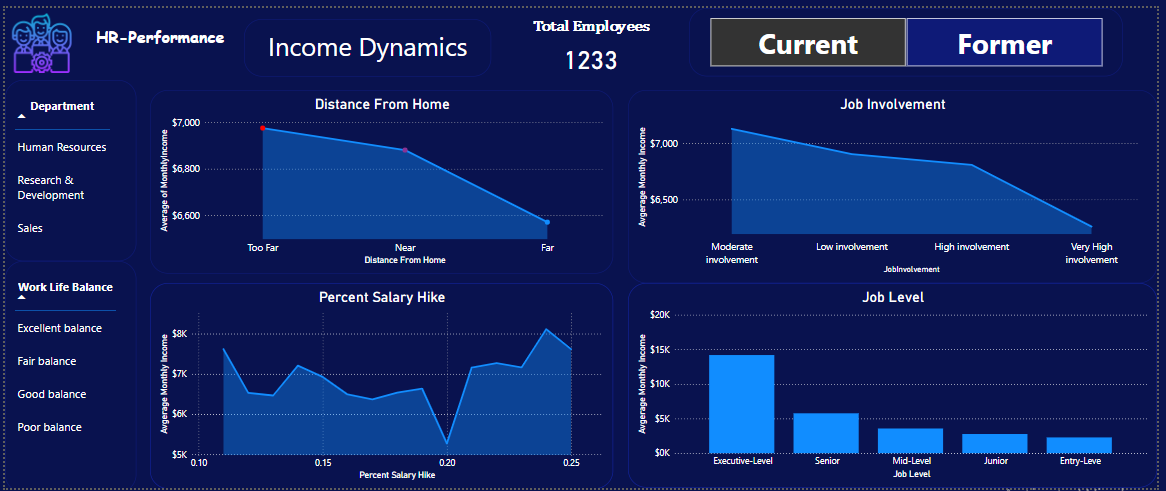

Layout of this report page (visuals, bound fields, positions):
{"tool":"powerbi","page":{"name":"Income Dynamics","canvas":[1920,800],"ordinal":2},"visuals":[{"type":"textbox","box":[118.4,25.2,280.7,73.3],"z":0,"group":"g1"},{"type":"card","fields":{"Values":["CountNonNull(HR-Employee-Attrition.EmployeeNumber)"]},"box":[822.6,49.7,305.4,64.1],"z":0,"group":"g2"},{"type":"tableEx","fields":{"Values":["HR-Employee-Attrition.Department"]},"box":[0,120,219.2,302.4],"z":0},{"type":"group","id":"g1","title":"Group 4","box":[3.2,3.2,395.9,109.9],"z":1000},{"type":"image","box":[3.2,3.2,115.2,109.9],"z":1000,"group":"g1"},{"type":"slicer","title":"Attrition","fields":{"Values":["HR-Employee-Attrition.Attrition"]},"box":[1139.6,0,722.6,113.5],"z":2000},{"type":"textbox","box":[809.3,10.3,332.1,48.2],"z":2000,"group":"g2"},{"type":"group","id":"g2","title":"Group 1","box":[809.3,10.3,330.3,103.2],"z":3000},{"type":"tableEx","fields":{"Values":["HR-Employee-Attrition.Work Life Balance"]},"box":[0,422.4,219.3,386.2],"z":4000},{"type":"textbox","box":[397.9,17.8,412.2,96.4],"z":5000},{"type":"clusteredColumnChart","title":"Job Level","fields":{"Category":["HR-Employee-Attrition.Job Level"],"Y":["Avg(HR-Employee-Attrition.MonthlyIncome)"]},"box":[1038.5,458.3,881.5,340.6],"z":6000},{"type":"areaChart","title":"Percent Salary Hike","fields":{"Category":["HR-Employee-Attrition.Percent Salary Hike"],"Y":["Avg(HR-Employee-Attrition.MonthlyIncome)"]},"box":[241.5,458.3,772.1,342.7],"z":7000},{"type":"areaChart","title":" Distance From Home","fields":{"Category":["HR-Employee-Attrition.Distance From Home"],"Y":["Avg(HR-Employee-Attrition.MonthlyIncome)"]},"box":[241.5,136.3,772.1,305.5],"z":9000},{"type":"areaChart","title":"Job Involvement","fields":{"Category":["HR-Employee-Attrition.JobInvolvement"],"Y":["Avg(HR-Employee-Attrition.MonthlyIncome)"]},"box":[1038.5,136.3,881.5,322.1],"z":10000}]}

Visuals, with their boxes in screenshot pixels (x1, y1, x2, y2), scaled from the page's 1920x800 canvas onto the 1166x491 screenshot:
textbox: {"x1": 72, "y1": 15, "x2": 242, "y2": 60}
card - CountNonNull(HR-Employee-Attrition.EmployeeNumber): {"x1": 500, "y1": 31, "x2": 685, "y2": 70}
tableEx - HR-Employee-Attrition.Department: {"x1": 0, "y1": 74, "x2": 133, "y2": 259}
"Group 4" group: {"x1": 2, "y1": 2, "x2": 242, "y2": 69}
image: {"x1": 2, "y1": 2, "x2": 72, "y2": 69}
"Attrition" slicer: {"x1": 692, "y1": 0, "x2": 1131, "y2": 70}
textbox: {"x1": 491, "y1": 6, "x2": 693, "y2": 36}
"Group 1" group: {"x1": 491, "y1": 6, "x2": 692, "y2": 70}
tableEx - HR-Employee-Attrition.Work Life Balance: {"x1": 0, "y1": 259, "x2": 133, "y2": 490}
textbox: {"x1": 242, "y1": 11, "x2": 492, "y2": 70}
"Job Level" clusteredColumnChart: {"x1": 631, "y1": 281, "x2": 1165, "y2": 490}
"Percent Salary Hike" areaChart: {"x1": 147, "y1": 281, "x2": 616, "y2": 490}
" Distance From Home" areaChart: {"x1": 147, "y1": 84, "x2": 616, "y2": 271}
"Job Involvement" areaChart: {"x1": 631, "y1": 84, "x2": 1165, "y2": 281}
